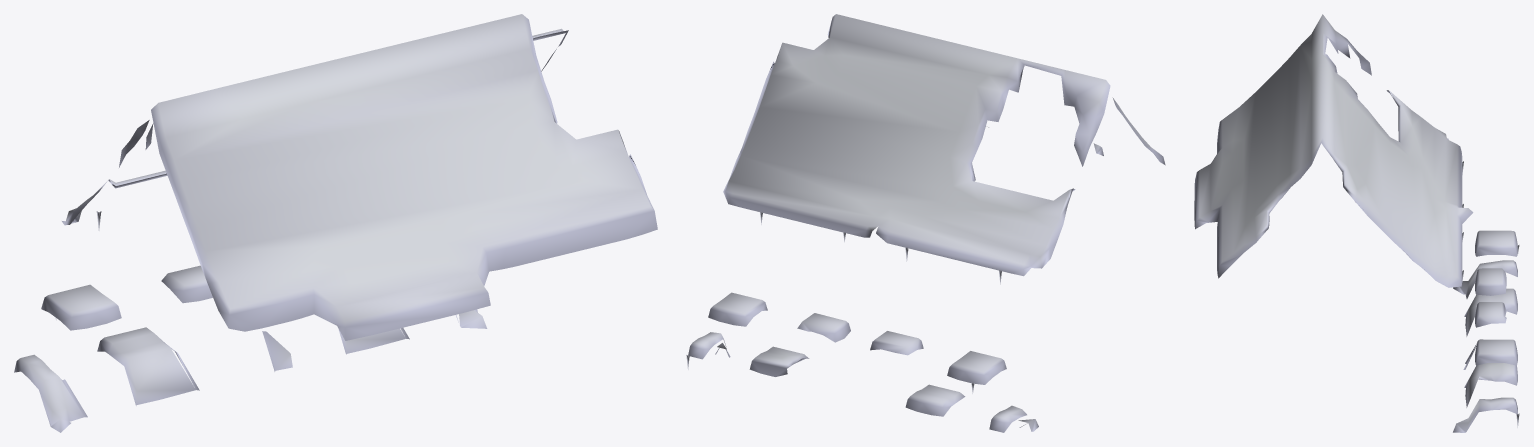
File: hall.wallet.t2.snow.glb
3 renders of one model, left to right at view 1: azimuth 30°, elevation 25°; view 2: azimuth 150°, elevation 25°; view 3: azimuth 270°, elevation 25°, orthographic. The views are drawn at different scales.
Parts seen in each view (by area): view 1: snow; view 2: snow; view 3: snow.
Part boxes in pixels (left/top/right/bottom): snow: left=14, top=14, right=657, bottom=432; snow: left=686, top=14, right=1165, bottom=432; snow: left=1194, top=14, right=1519, bottom=432.
Size of the model in its own units: 4.02 by 3.53 by 3.77.
